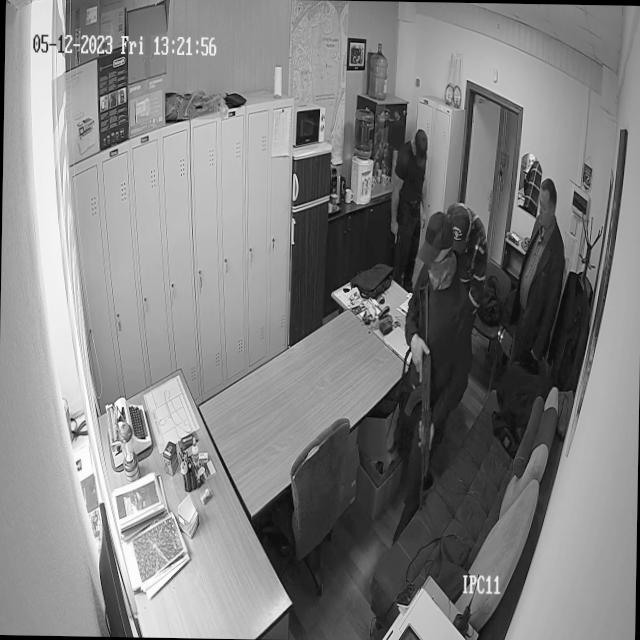gun: (411, 274, 442, 502)
person: (512, 171, 568, 406), (383, 122, 434, 264)
person with a gun: (394, 195, 472, 546)
